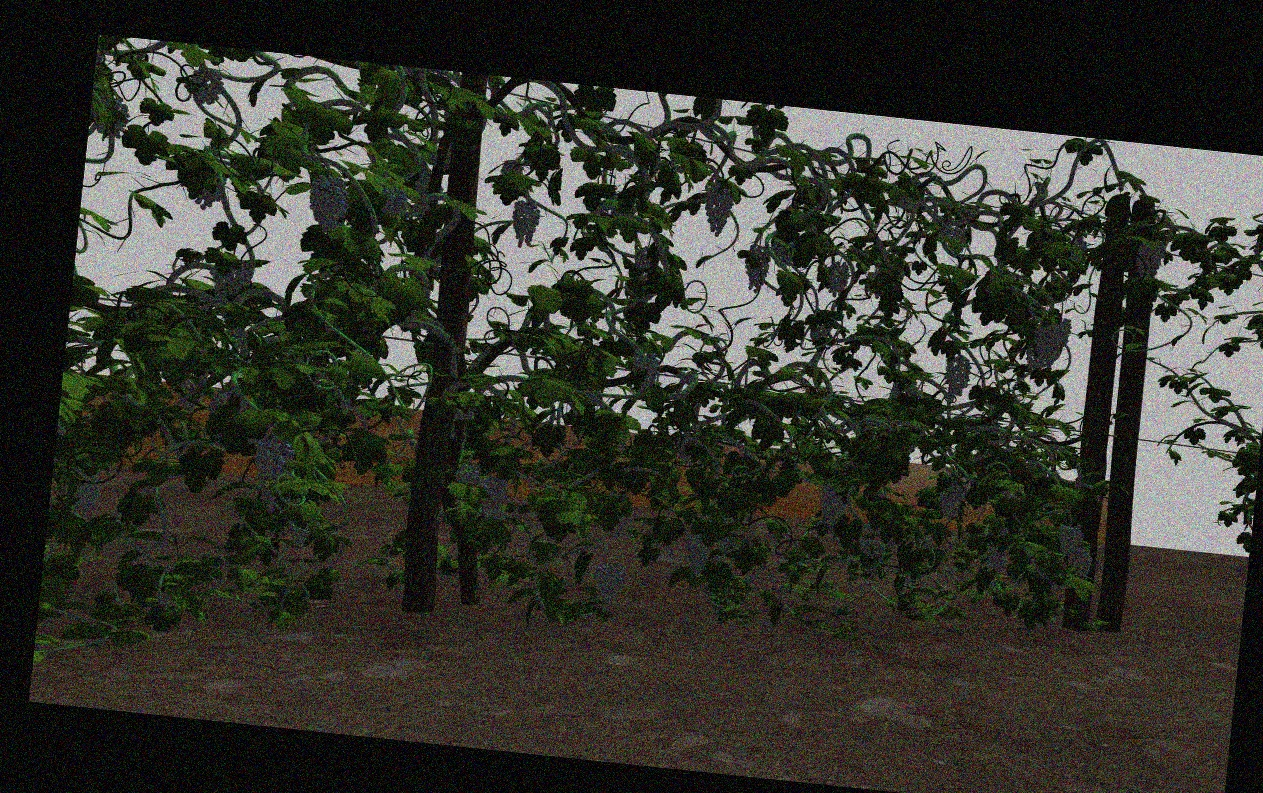grape: (250, 433, 292, 513), (307, 169, 348, 230), (1034, 314, 1071, 367), (207, 258, 248, 304), (702, 180, 733, 236), (61, 471, 99, 511), (816, 479, 847, 528), (742, 241, 770, 295), (629, 349, 660, 394), (510, 199, 539, 247), (681, 532, 711, 576), (1134, 238, 1165, 280), (595, 560, 624, 604), (478, 473, 507, 515), (943, 352, 971, 395), (937, 478, 964, 521), (190, 69, 222, 103), (823, 259, 849, 296), (1058, 521, 1083, 557), (379, 185, 407, 214), (858, 533, 886, 558), (1066, 551, 1092, 577), (982, 544, 1007, 571), (453, 462, 481, 486)
